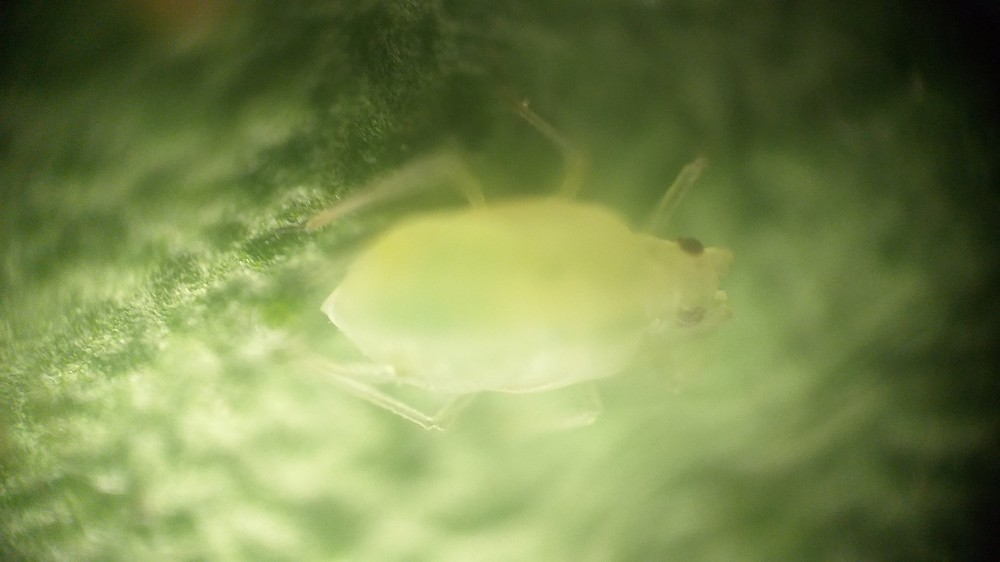Pulgon: (272, 99, 773, 492)
